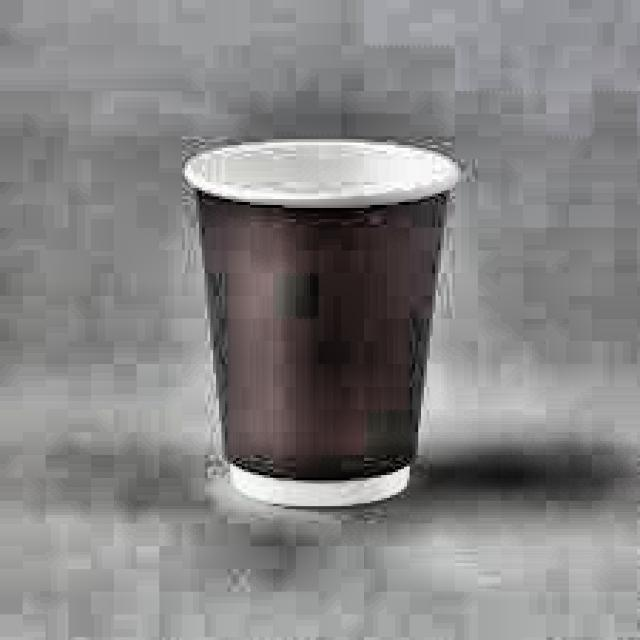Cup: (185, 129, 465, 526)
